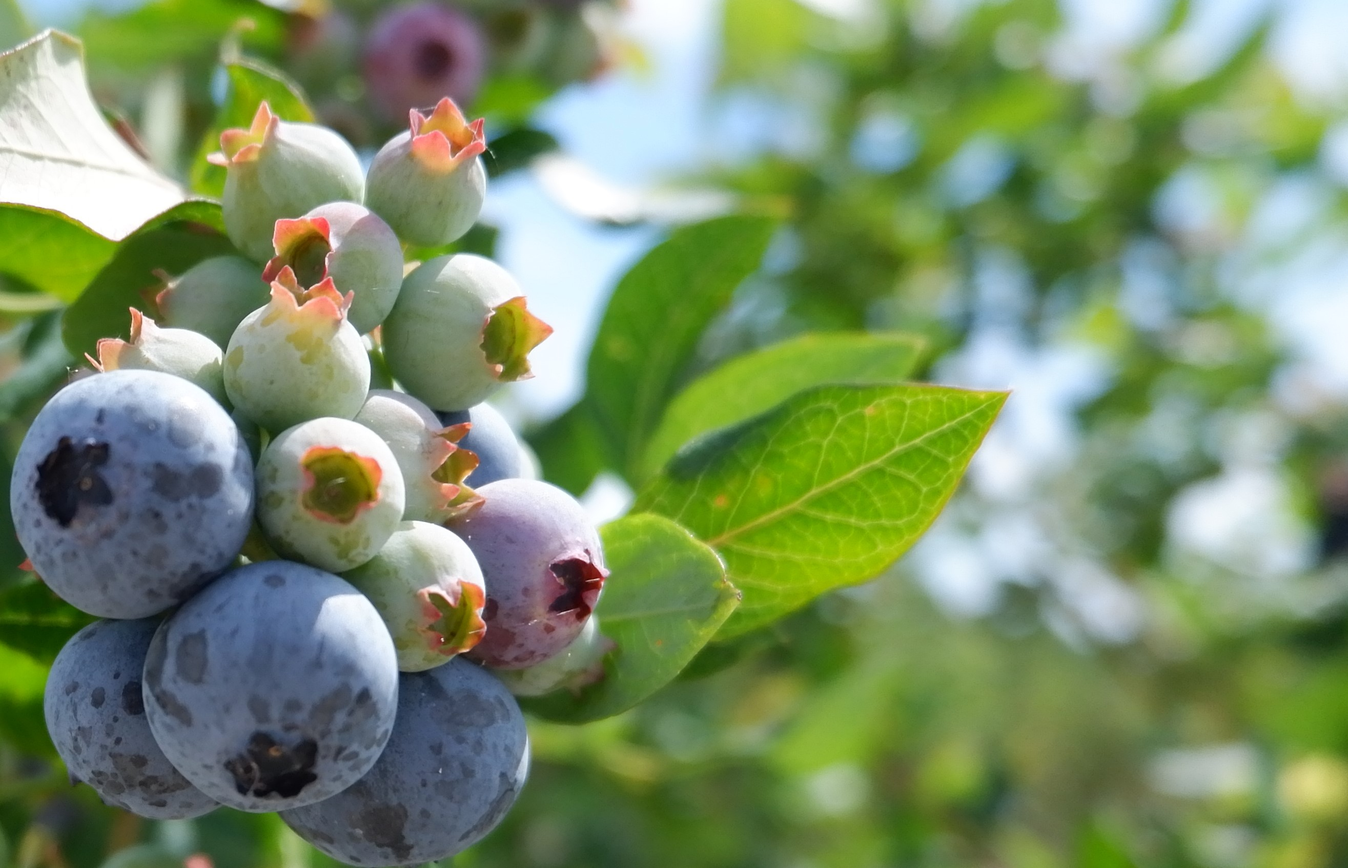Immature: (447, 487, 602, 666), (380, 257, 522, 409), (257, 422, 399, 568), (226, 281, 364, 431), (221, 111, 358, 258), (352, 528, 480, 669), (364, 95, 483, 243), (354, 387, 480, 525), (84, 306, 235, 417), (266, 203, 396, 324), (154, 258, 266, 341), (502, 613, 612, 697), (492, 299, 550, 381)
Mature: (144, 562, 400, 807), (17, 373, 246, 613), (281, 662, 525, 859), (46, 617, 202, 817), (438, 404, 522, 489)
